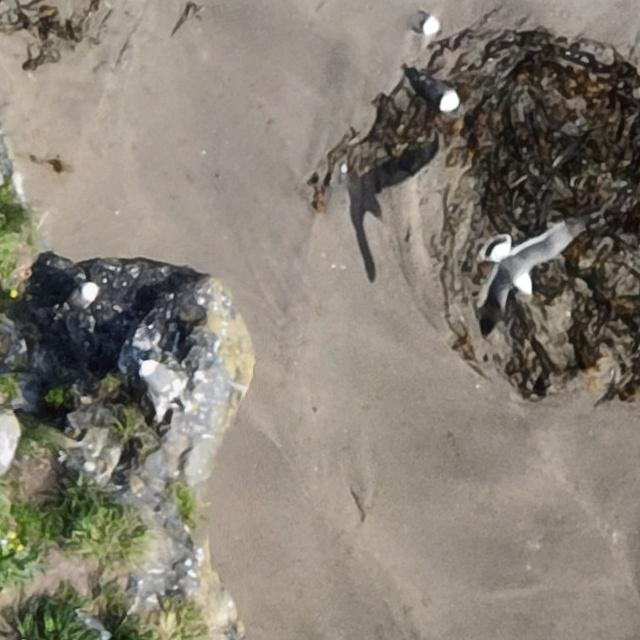F: (484, 224, 580, 324)
umineko: (144, 358, 182, 406), (426, 81, 460, 111), (70, 284, 98, 309), (81, 615, 109, 635)
